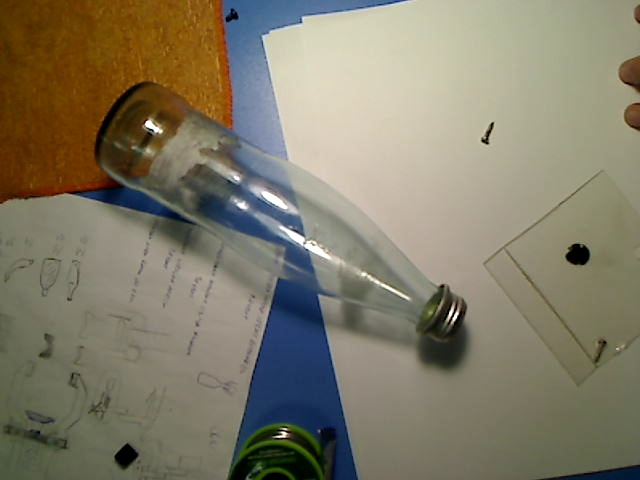bottle: (92, 81, 468, 345)
